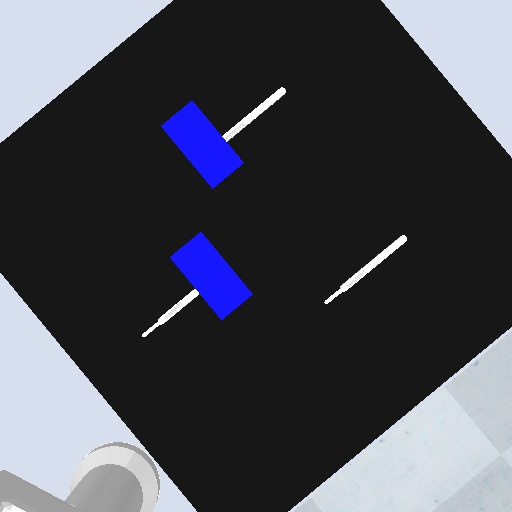bisturi: (322, 231, 412, 308), (220, 85, 291, 145), (139, 287, 202, 340)
